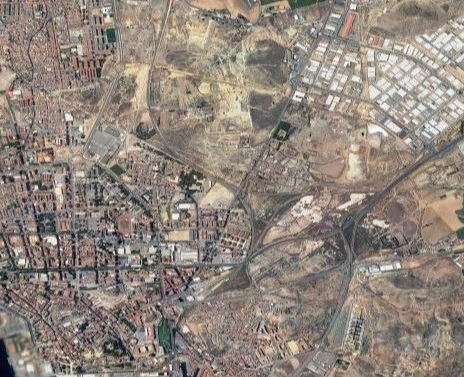industrial: (293, 9, 464, 154)
motorway: (379, 137, 464, 197), (296, 195, 381, 255), (215, 225, 300, 285), (285, 322, 336, 377), (325, 255, 358, 334)
